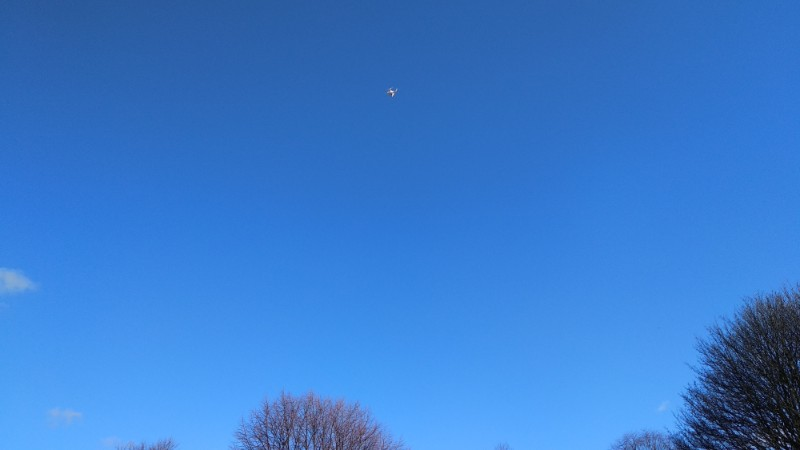drone: (386, 85, 400, 99)
